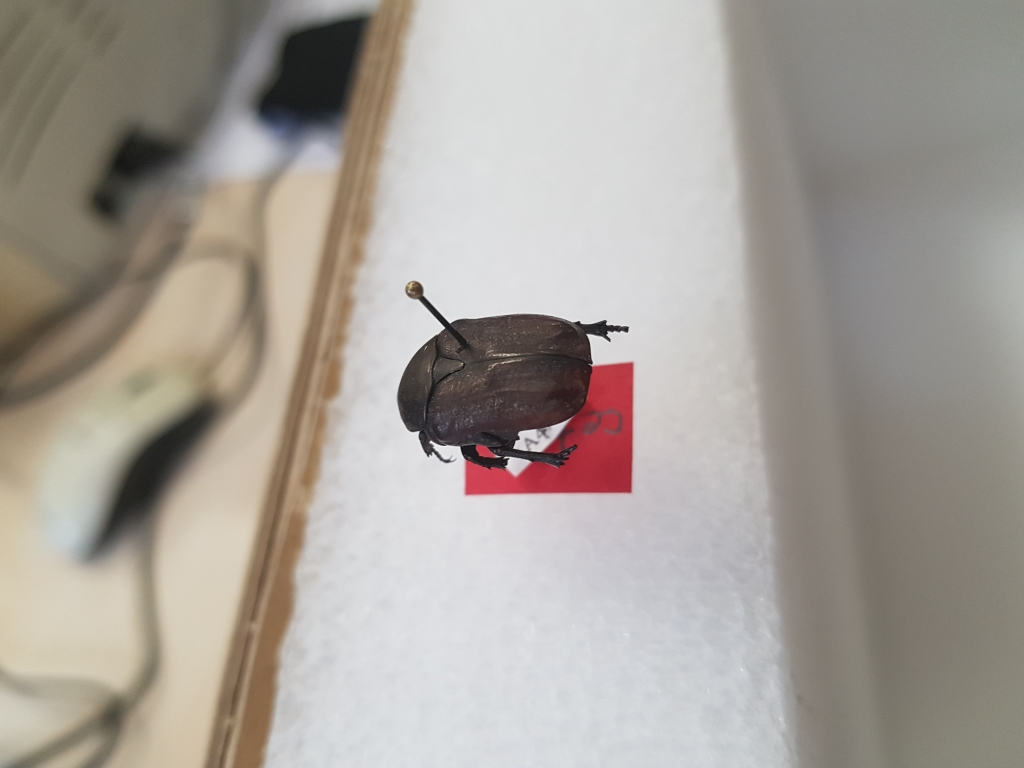Protaetia_asiatica: (392, 301, 646, 478)
